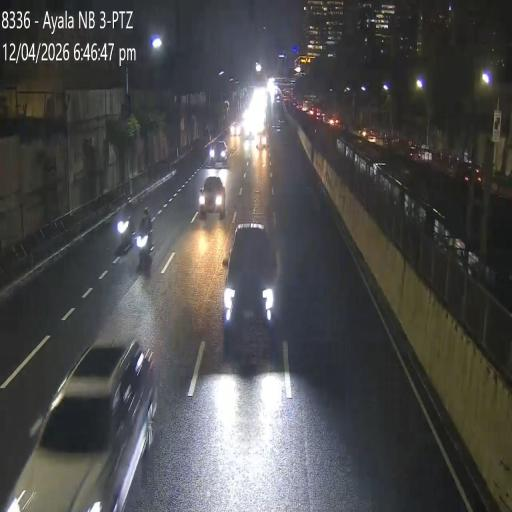Car: (6, 338, 156, 510), (223, 220, 277, 358), (198, 174, 226, 218), (209, 138, 228, 164)
Motor: (116, 200, 134, 259), (136, 229, 154, 276)
Not Accident: (114, 196, 156, 282)
